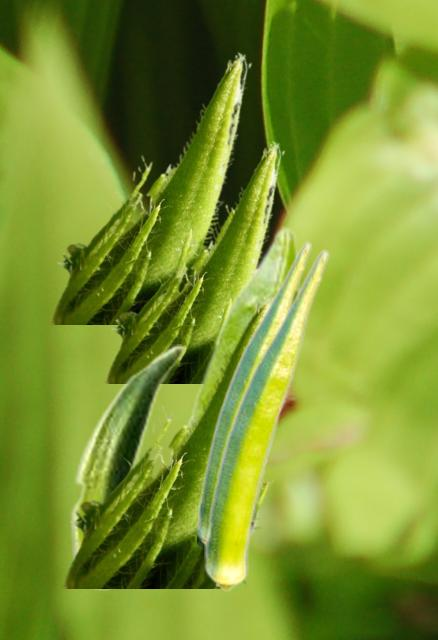okra: (60, 292, 281, 587), (48, 51, 251, 323), (103, 140, 284, 382), (204, 248, 329, 591), (184, 224, 301, 525), (197, 240, 310, 545), (69, 344, 184, 591)
